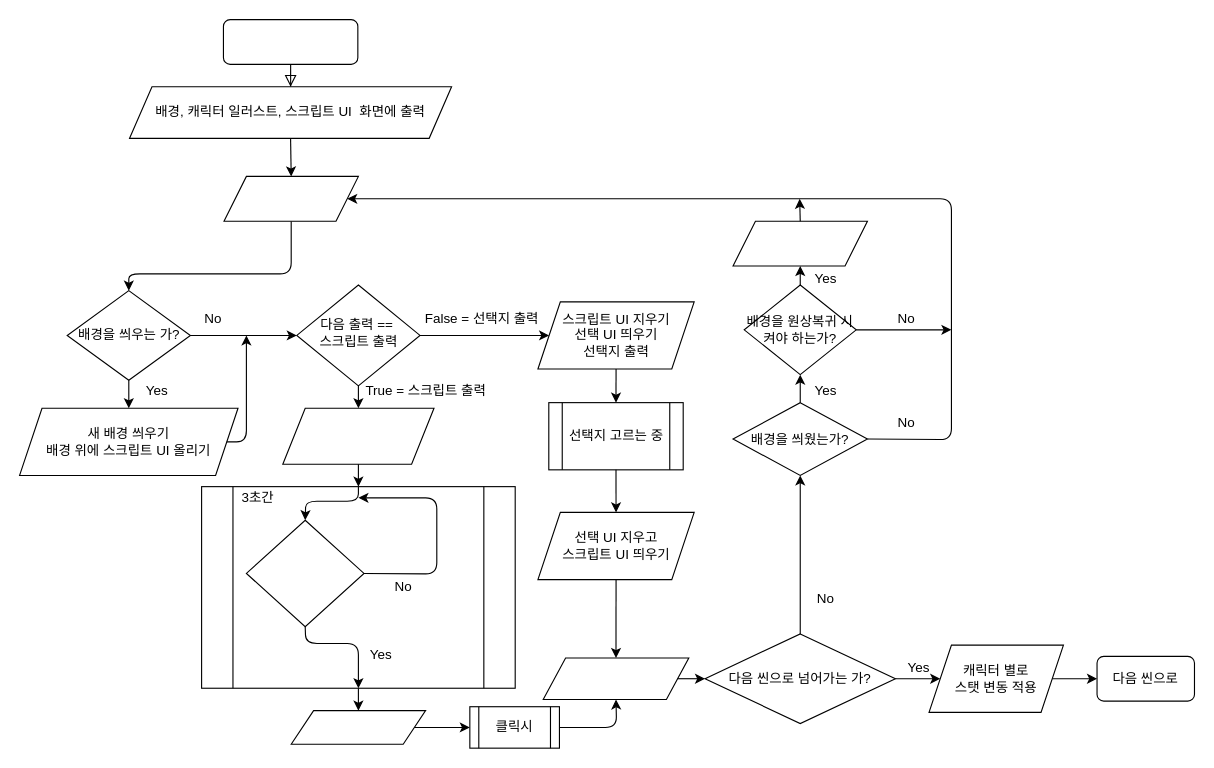
Image size: 1214x768. Some labels were removed from this diagram. The centre of each missing label's shape, as x and y in pixels:
"다음 출력" belongs at point 290,198.
"만약 UI를 한번 더 클릭했다." belongs at point 304,573.
"배경 지우기" belongs at point 799,243.
"스크립트 UI 비우기" belongs at point 615,678.
"스크립트 시작" belongs at point 290,41.
"출력 완료" belongs at point 358,727.
"캐릭터 명 스크립트 출력 중" belongs at point 358,435.
